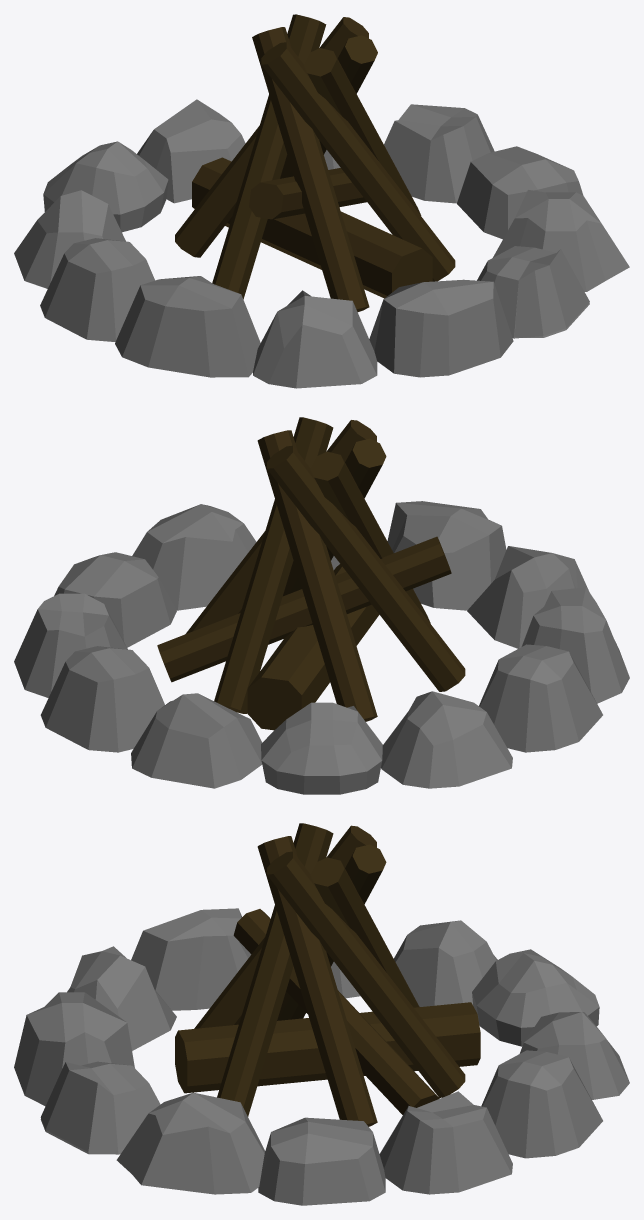
File: bonfire.fbx
The picture shows the model from 3 angles, top to bottom: view 1: azimuth 30°, elevation 25°; view 2: azimuth 150°, elevation 25°; view 3: azimuth 270°, elevation 25°; orthographic projection. The views are drawn at different scales.
Parts seen in each view (by area): view 1: Stone, Wood; view 2: Stone, Wood; view 3: Stone, Wood.
Part boxes in pixels (x1,y1,x2,y2): Stone: (14, 99, 629, 388); Wood: (175, 14, 455, 311); Stone: (14, 501, 629, 794); Wood: (157, 417, 465, 730); Stone: (14, 908, 629, 1205); Wood: (175, 823, 480, 1126).
Size of the model in its own units: 9.7 by 4.17 by 9.7.
